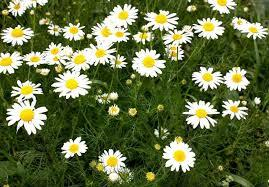chamomile: (8, 106, 43, 125), (237, 16, 268, 37), (60, 75, 89, 97), (10, 0, 45, 17), (145, 13, 176, 30), (107, 9, 137, 26), (21, 49, 45, 70), (65, 26, 90, 46), (167, 149, 192, 169), (134, 56, 161, 74), (47, 44, 72, 62), (0, 50, 20, 71), (194, 71, 222, 86), (85, 46, 111, 62), (108, 29, 134, 45), (5, 28, 29, 45), (98, 155, 124, 170), (62, 141, 83, 159), (193, 104, 210, 126), (70, 54, 92, 70), (165, 32, 194, 44), (132, 29, 155, 44), (200, 21, 223, 36), (208, 0, 233, 13), (227, 74, 247, 89), (98, 25, 113, 43), (224, 106, 248, 117), (16, 81, 32, 97)
